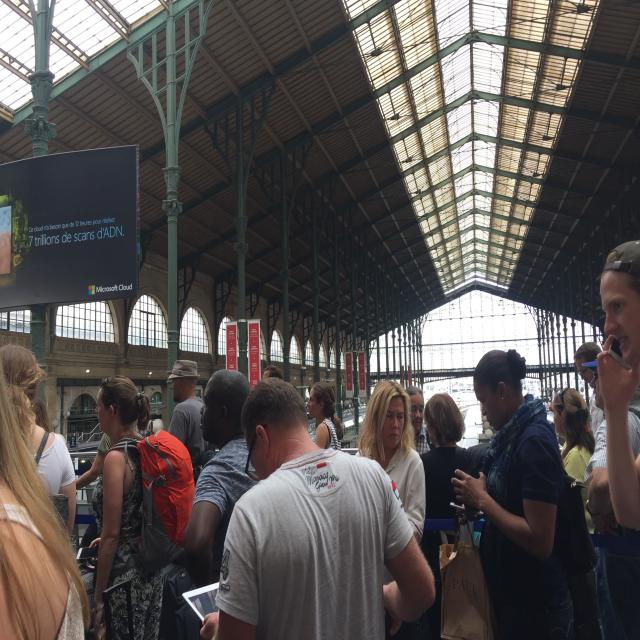body: (198, 375, 437, 640), (447, 345, 595, 640), (0, 383, 85, 640), (90, 374, 164, 640), (581, 346, 640, 640), (182, 369, 260, 589), (0, 343, 77, 540), (354, 379, 426, 585), (595, 237, 640, 536), (166, 358, 218, 489), (550, 387, 596, 534), (420, 392, 465, 520), (73, 422, 116, 504), (573, 340, 605, 442), (306, 380, 345, 453), (404, 385, 431, 456), (255, 361, 285, 383)
